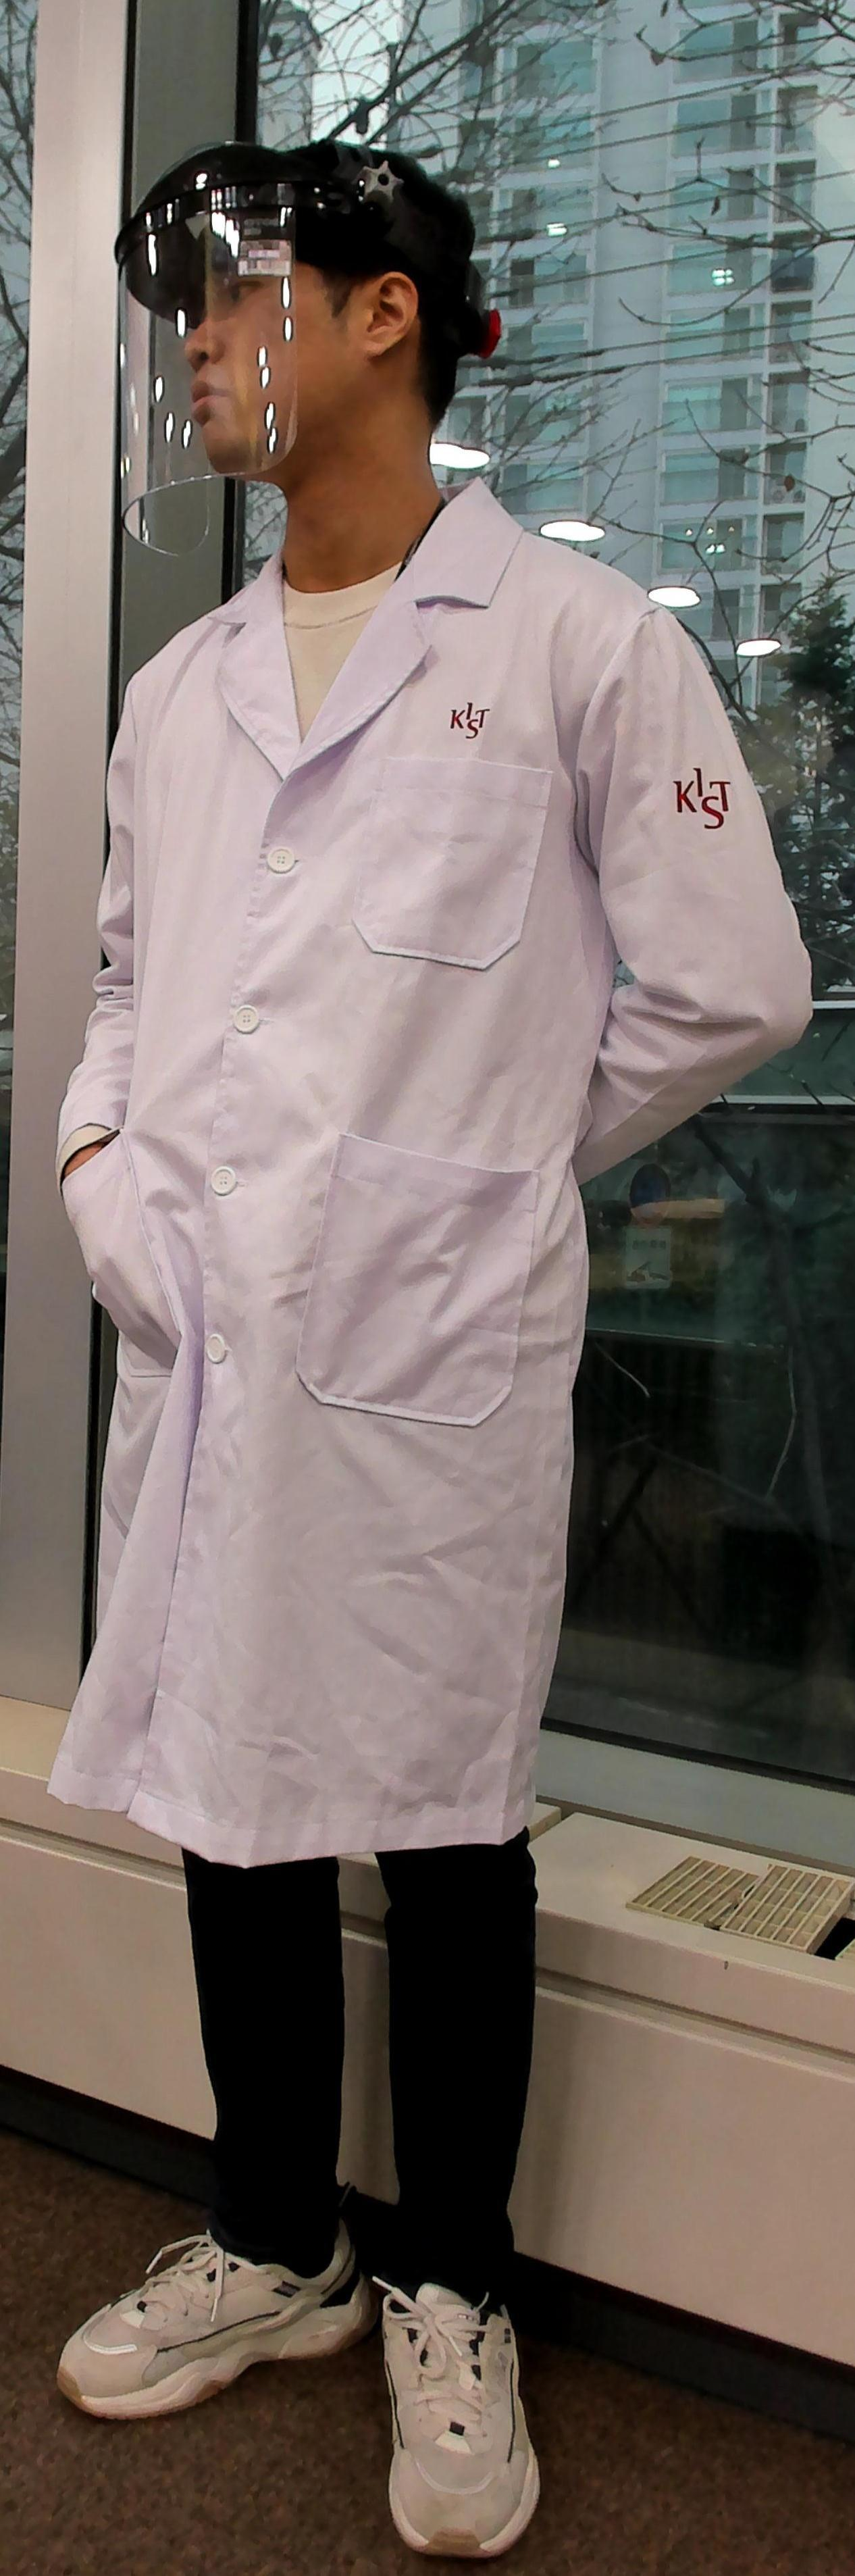lab_coat: (51, 568, 622, 1842)
